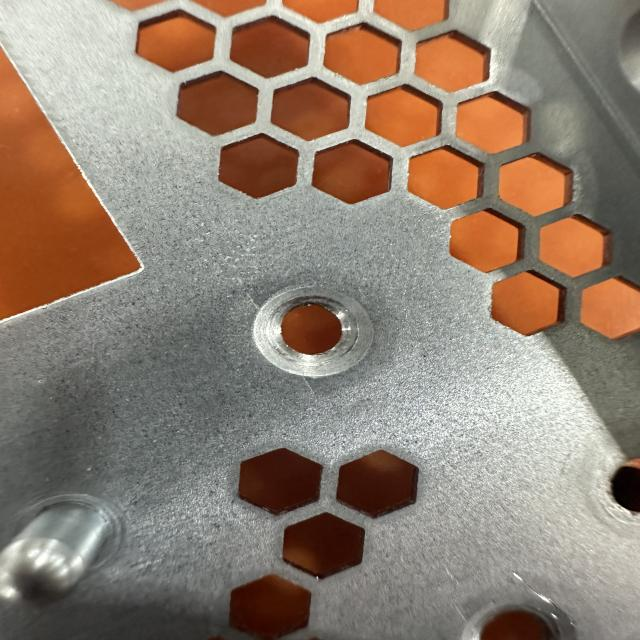Missing screw: (243, 276, 389, 384)
